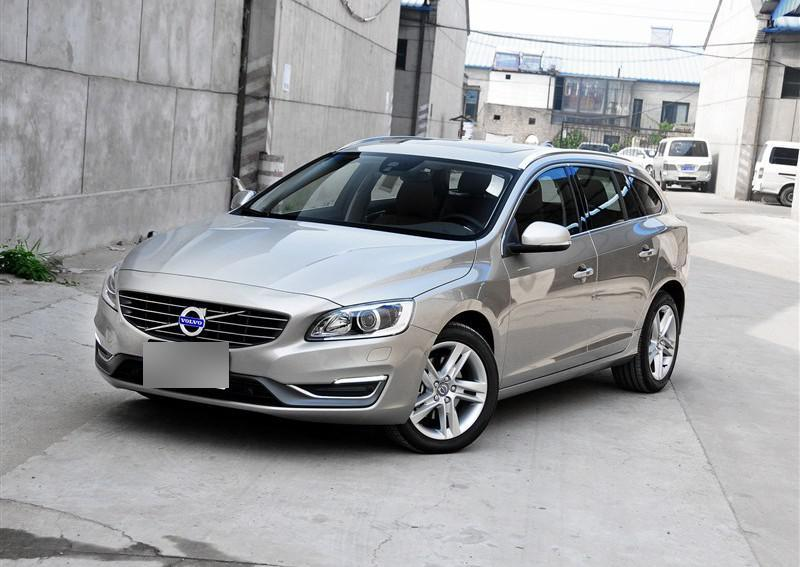Wagon: (87, 132, 694, 457)
